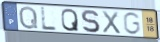G: (122, 12, 141, 36)
L: (40, 6, 59, 32)
Q: (18, 5, 39, 31), (61, 8, 80, 33)
S: (80, 9, 101, 34)
X: (101, 10, 122, 36)
